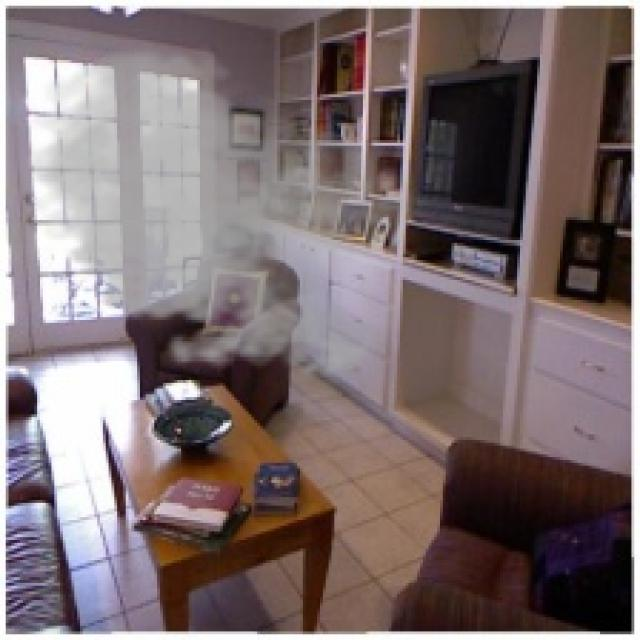smoke: (14, 40, 417, 389)
